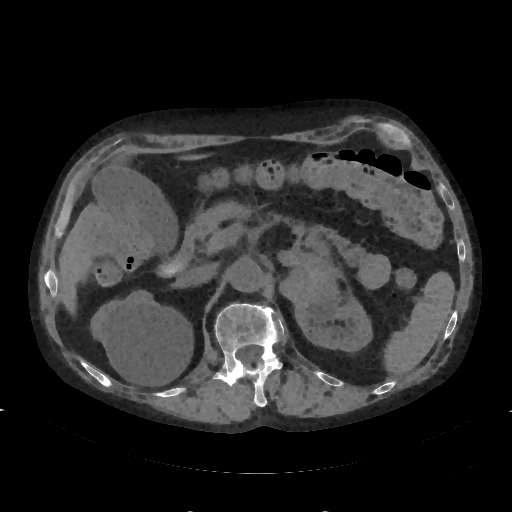Lesion: (104, 301, 197, 394)
